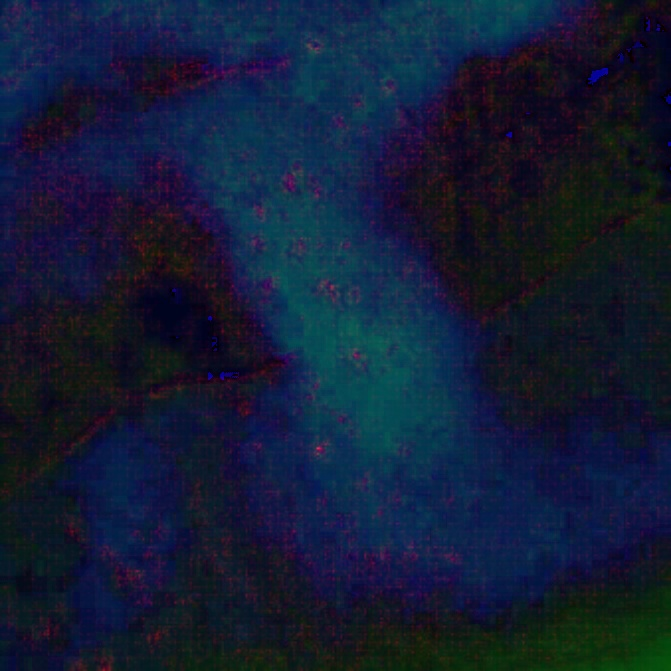rip_current: (160, 106, 541, 505)
